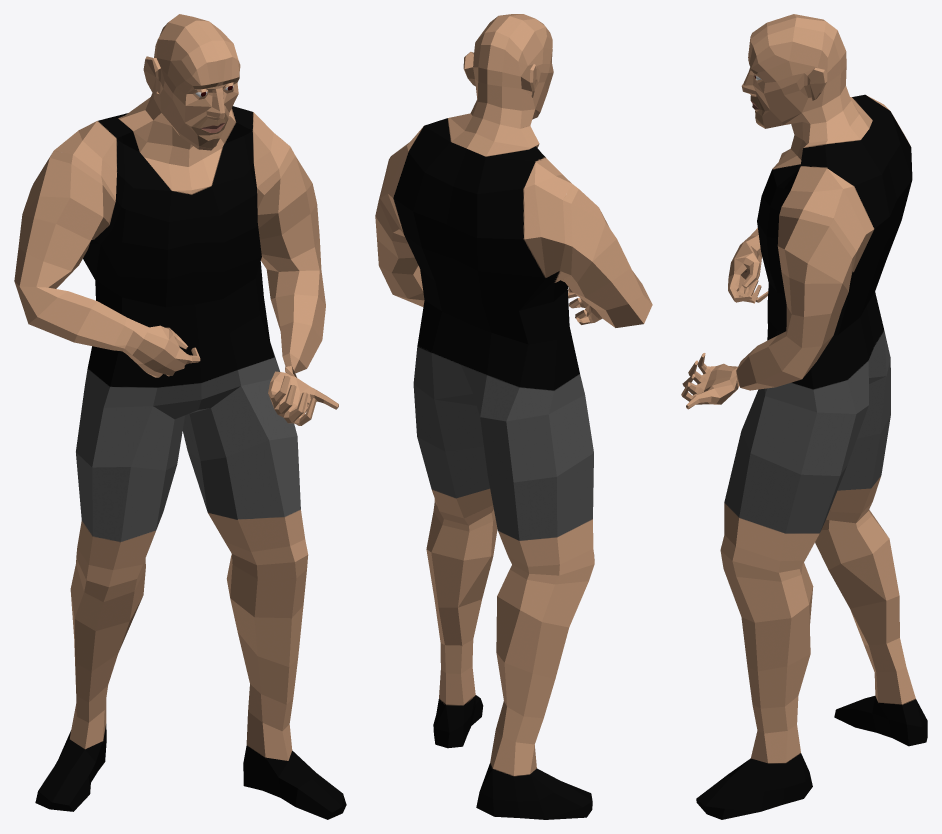
The model's file is PlayerIdle(193).obj.
3 views of the same model, side by side, from view 1: azimuth 30°, elevation 25°; view 2: azimuth 150°, elevation 25°; view 3: azimuth 270°, elevation 25° (orthographic). The views are drawn at different scales.
Parts seen in each view (by area): view 1: Plane002; view 2: Plane002; view 3: Plane002.
Part boxes in pixels (box(x1,y1,x2,y2)): Plane002: box(14, 14, 346, 819); Plane002: box(375, 14, 652, 819); Plane002: box(681, 14, 927, 819).
Size of the model in its own units: 689 by 1800 by 536.
